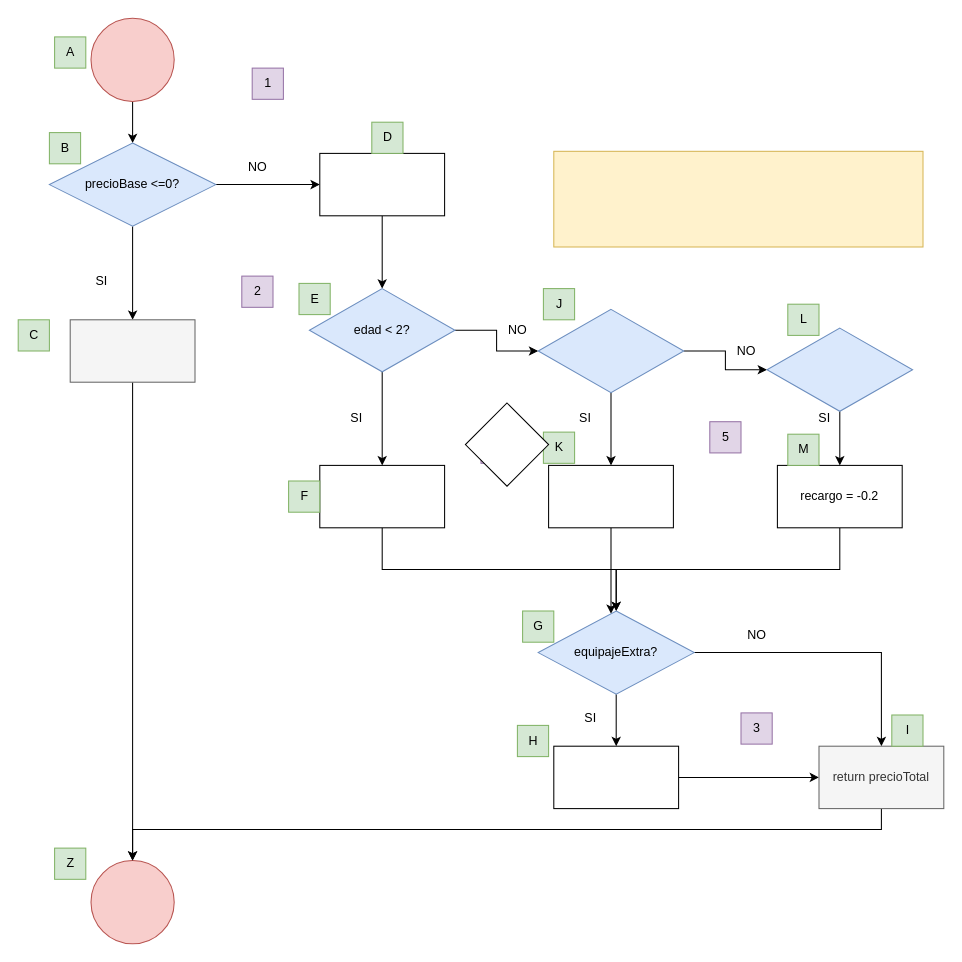
This 962x962 diagram has some shape labels left out. Each missing label, with the centre of its shape:
"double recargo=0" belongs at (x=382, y=184).
"edad >=2 && <=12?" belongs at (x=610, y=350).
"edad >=65?" belongs at (x=839, y=369).
"FIN" belongs at (x=132, y=902).
"INICIO" belongs at (x=132, y=59).
"recargo += 0.15" belongs at (x=616, y=777).
"recargo = -0.5" belongs at (x=610, y=496).
"recargo= -0.9" belongs at (x=382, y=496).
"return 0" belongs at (x=132, y=350).
"V(G)= (A-N)+2= (17-14) + 2=5 V(G)=C+1= 5+1=6 V(G)=R= 5" belongs at (x=738, y=198).
